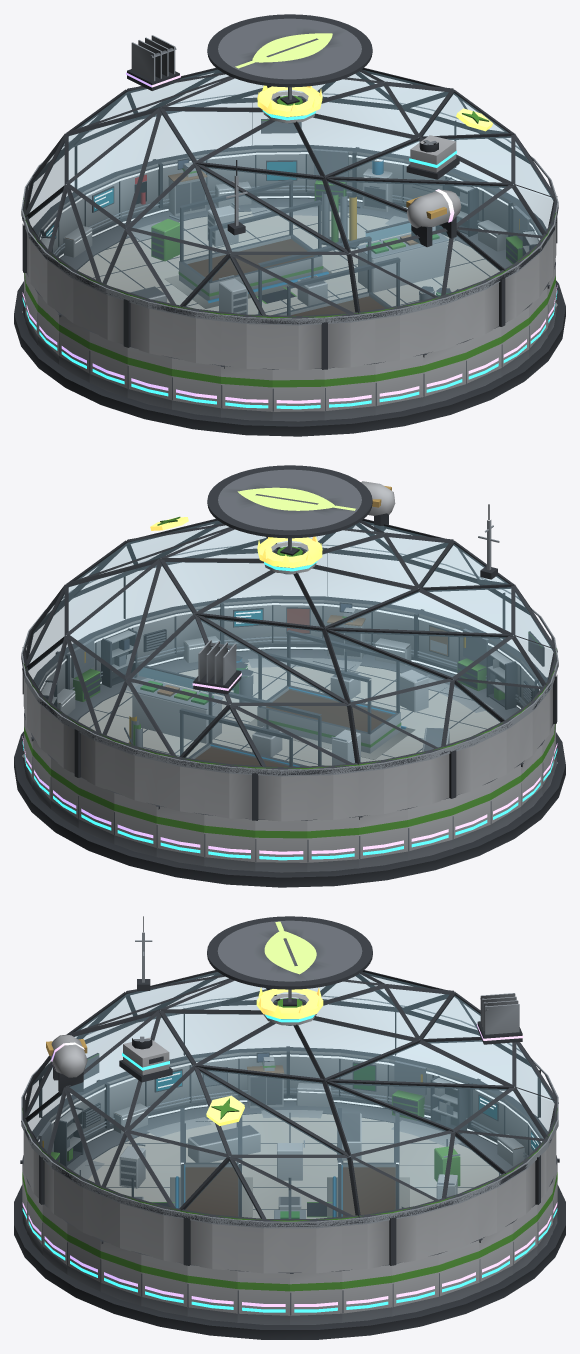
File: greenhouse_s_far.glb
3 renders of one model, top to bottom at view 1: azimuth 30°, elevation 25°; view 2: azimuth 150°, elevation 25°; view 3: azimuth 270°, elevation 25°, orthographic.
Visible parts, largest first — view 1: Roof, Base, Interior, L4, L2, L3, L5; view 2: Roof, Base, Interior, L2, L4, L3, L5; view 3: Roof, Base, Interior, L4, L2, L3, L5.
Boxes of the visible parts, box(x1,y1,x2,y2) form: Roof: box(21, 14, 558, 370); Base: box(14, 144, 565, 436); Interior: box(127, 179, 458, 315); L4: box(22, 35, 557, 403); L2: box(21, 92, 558, 325); L3: box(22, 91, 557, 409); L5: box(257, 85, 492, 131); Roof: box(21, 465, 558, 821); Base: box(14, 595, 565, 887); Interior: box(124, 630, 493, 766); L2: box(21, 504, 558, 776); L4: box(22, 479, 557, 854); L3: box(22, 542, 557, 860); L5: box(150, 516, 322, 567); Roof: box(21, 916, 558, 1273); Base: box(14, 1046, 565, 1339); Interior: box(73, 1108, 461, 1218); L4: box(22, 993, 557, 1306); L2: box(21, 916, 558, 1228); L3: box(22, 994, 557, 1312); L5: box(206, 988, 323, 1125).
Size of the model in its own units: 12.64 by 6.88 by 12.64.
